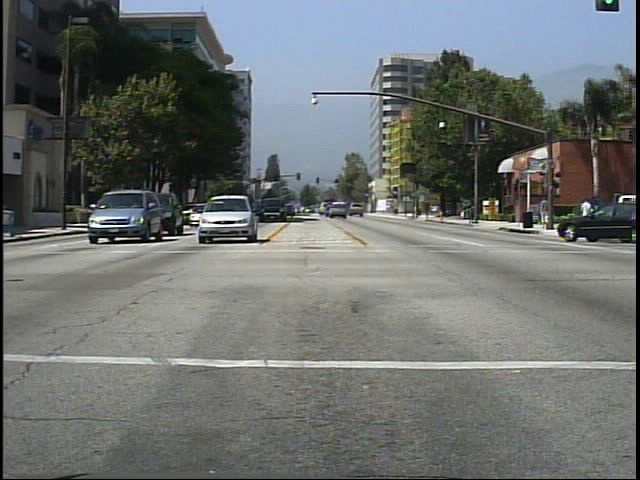person: (578, 193, 601, 237), (538, 193, 551, 233)
